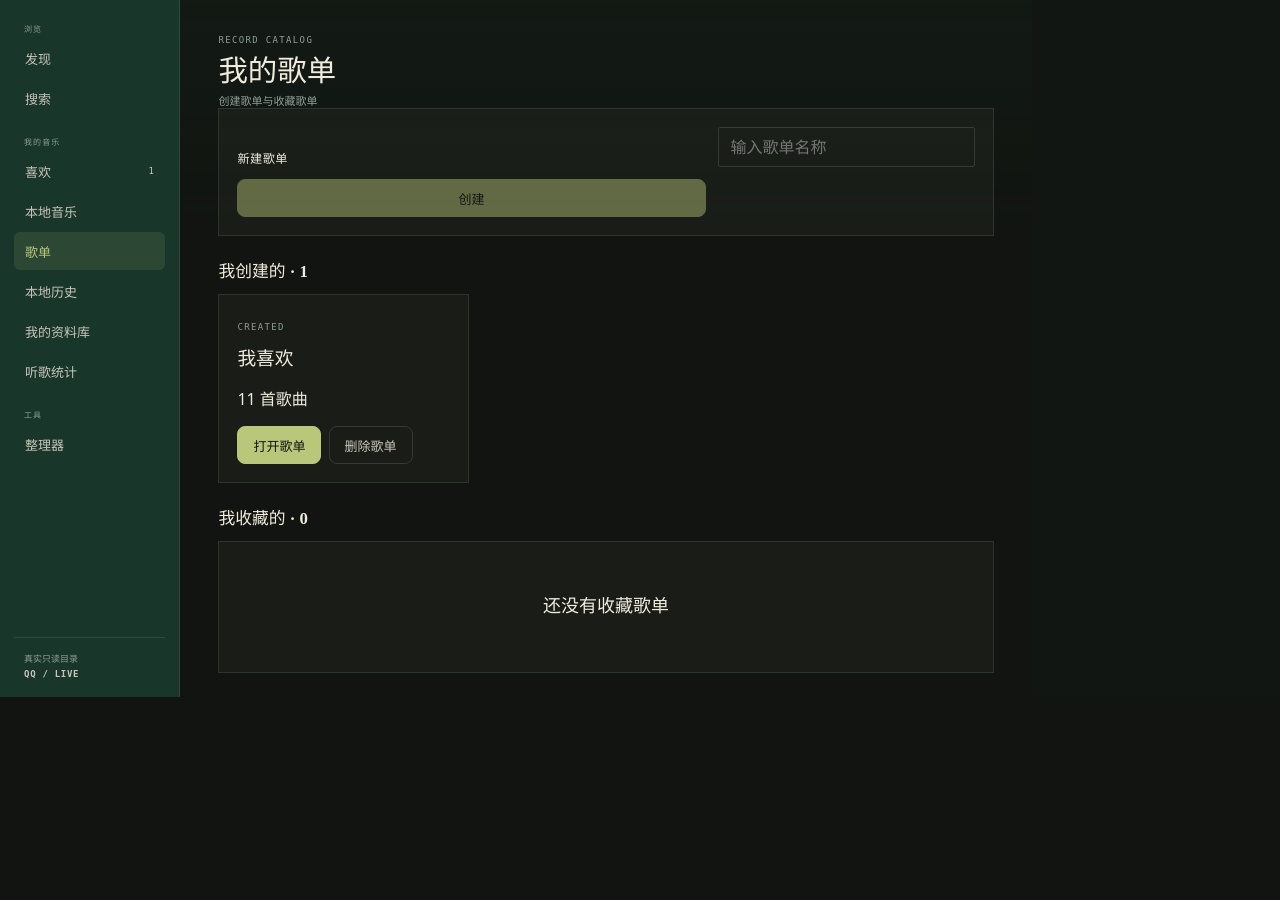
live catalog workspace › 搜索后选择未浏览的歌曲可查看详情并批量追加，保留已有队列且不启动播放
Click the button "打开歌单" at (279, 445), box [237,426,321,464]
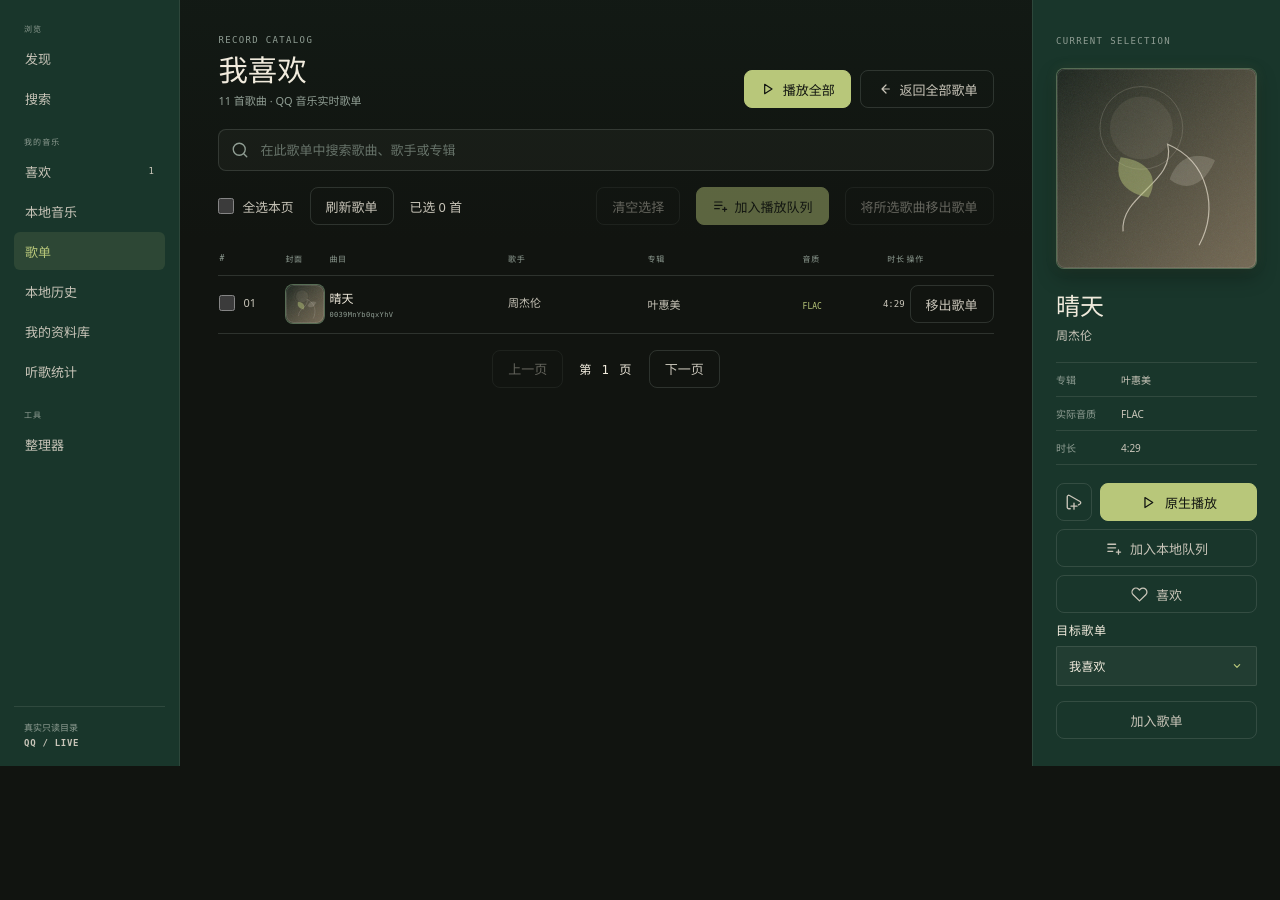
Type "夜曲" into the search field named "歌单内搜索" at (615, 150), box [258,130,972,170]
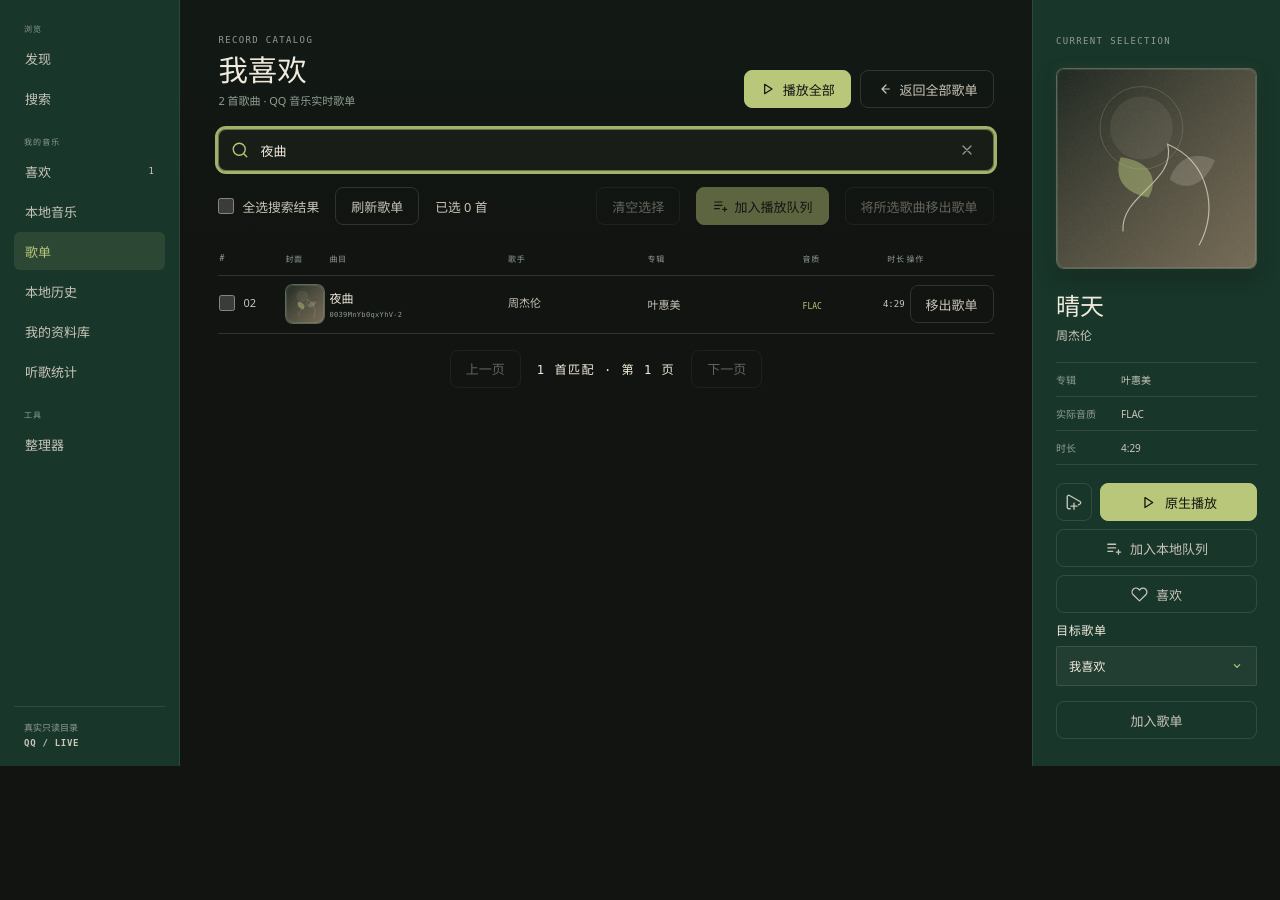
Click the button "夜曲 0039MnYb0qxYhV-2" at (372, 304), box [329,286,414,322]
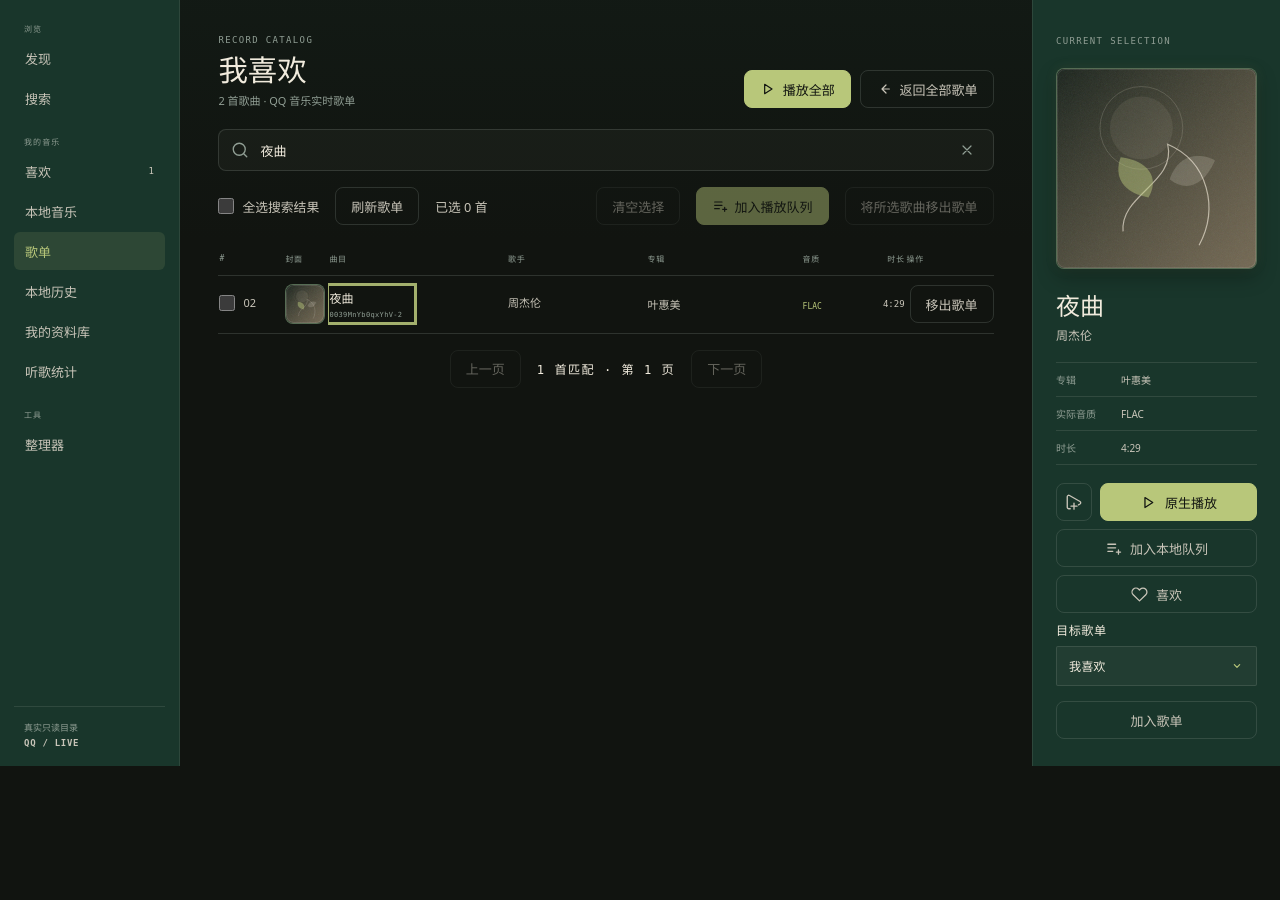
Check: the heading "夜曲" is shown, box [1056,294,1104,320]
Click the checkbox named "选择 夜曲" at (227, 303), box [219,295,235,311]
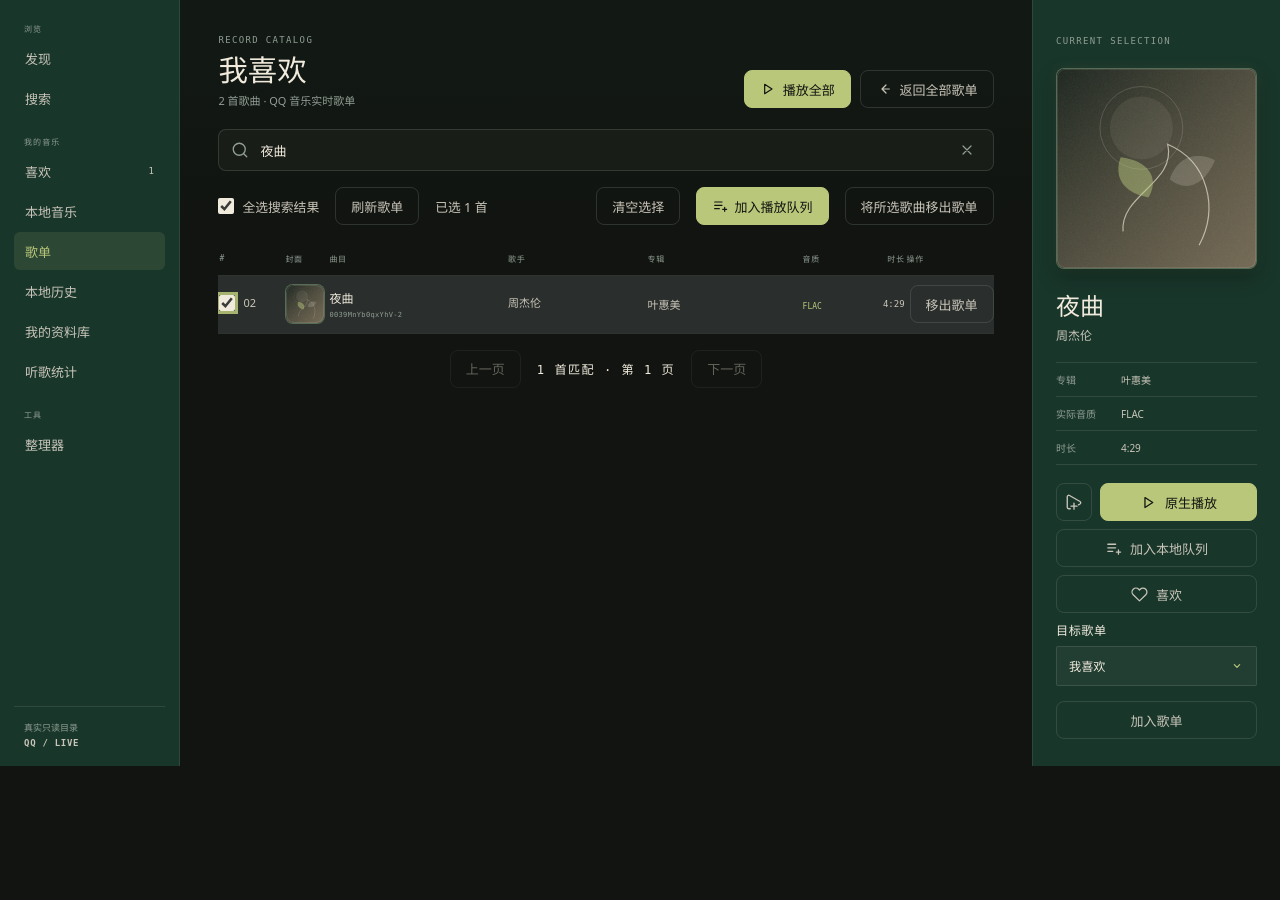
Click the button "加入播放队列" at (762, 206), box [696,187,829,225]
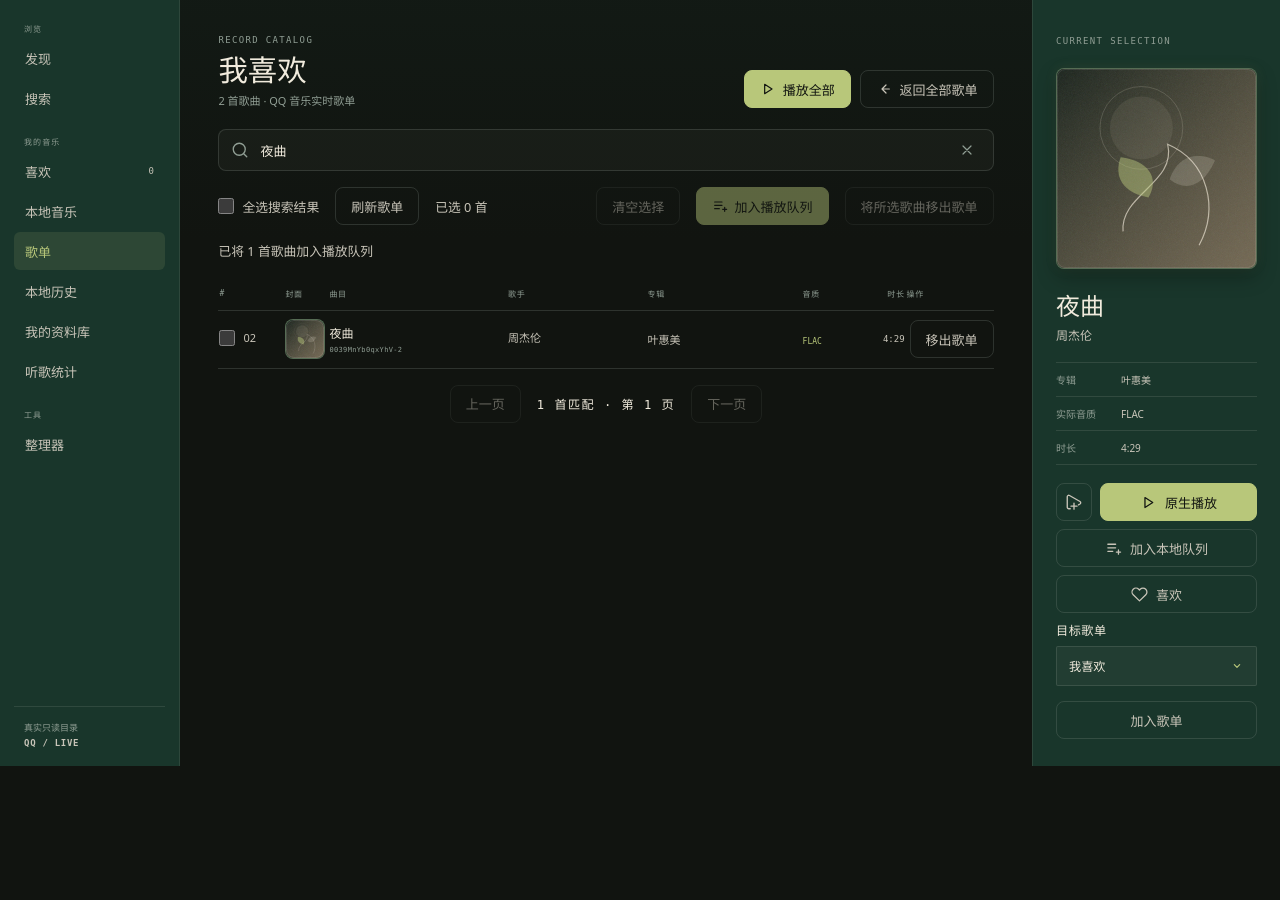
Check: the text "已将 1 首歌曲加入播放队列" is shown, box [218,242,373,260]
